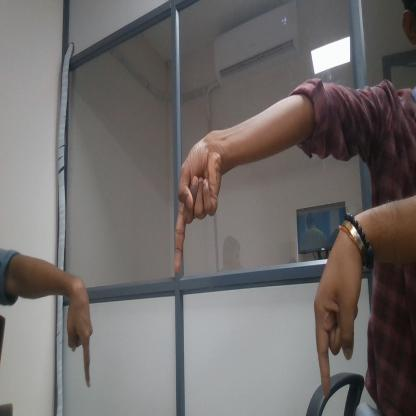Down: (170, 141, 224, 276), (312, 255, 362, 400), (63, 284, 99, 390)
